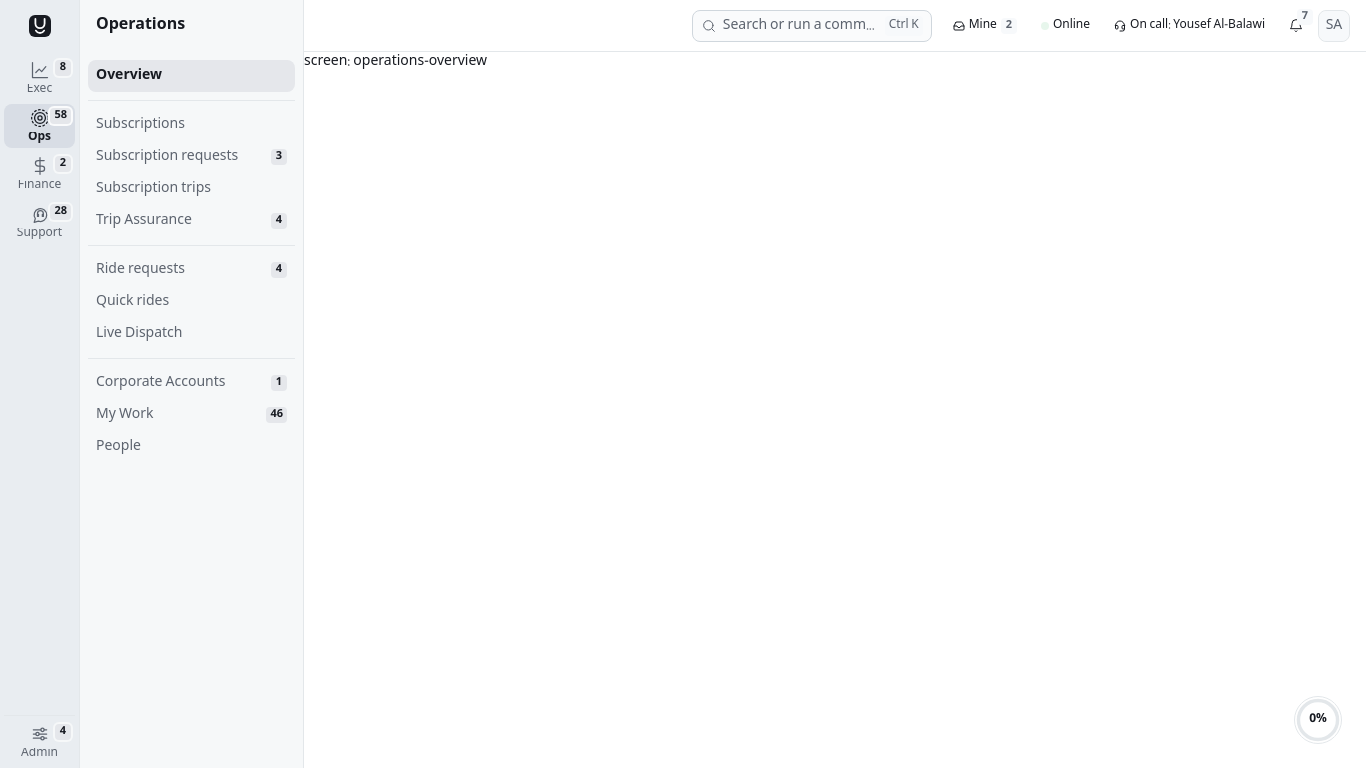
Test: the escape hatch goes to a screen that reads the operator's query › navigates to an index route with `q` on it, not to a metric board that drops it
Click the button "Search or run a command Ctrl K" at (812, 26), box [692,10,932,42]
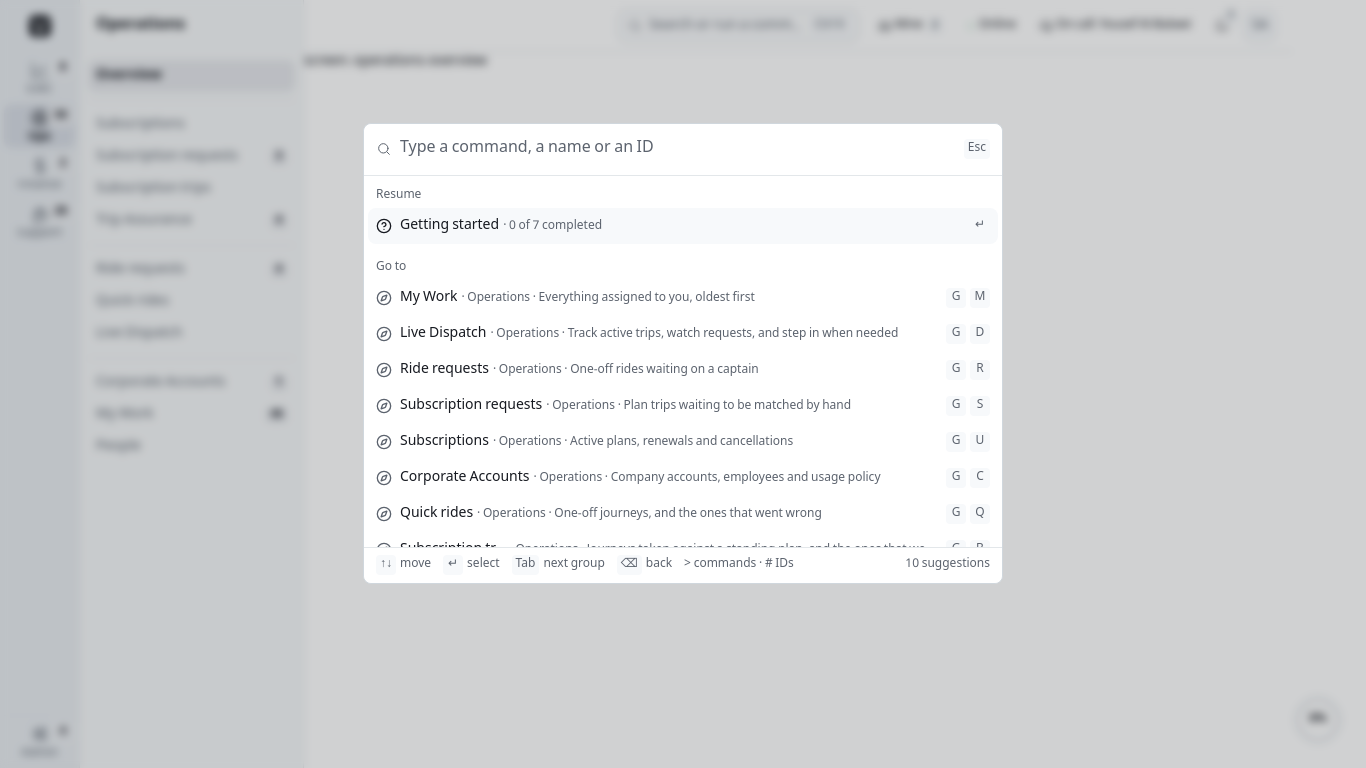
Type "Al-Harbi" into the search field named "Search" at (678, 149), box [400,137,956,161]
(page scrolled)
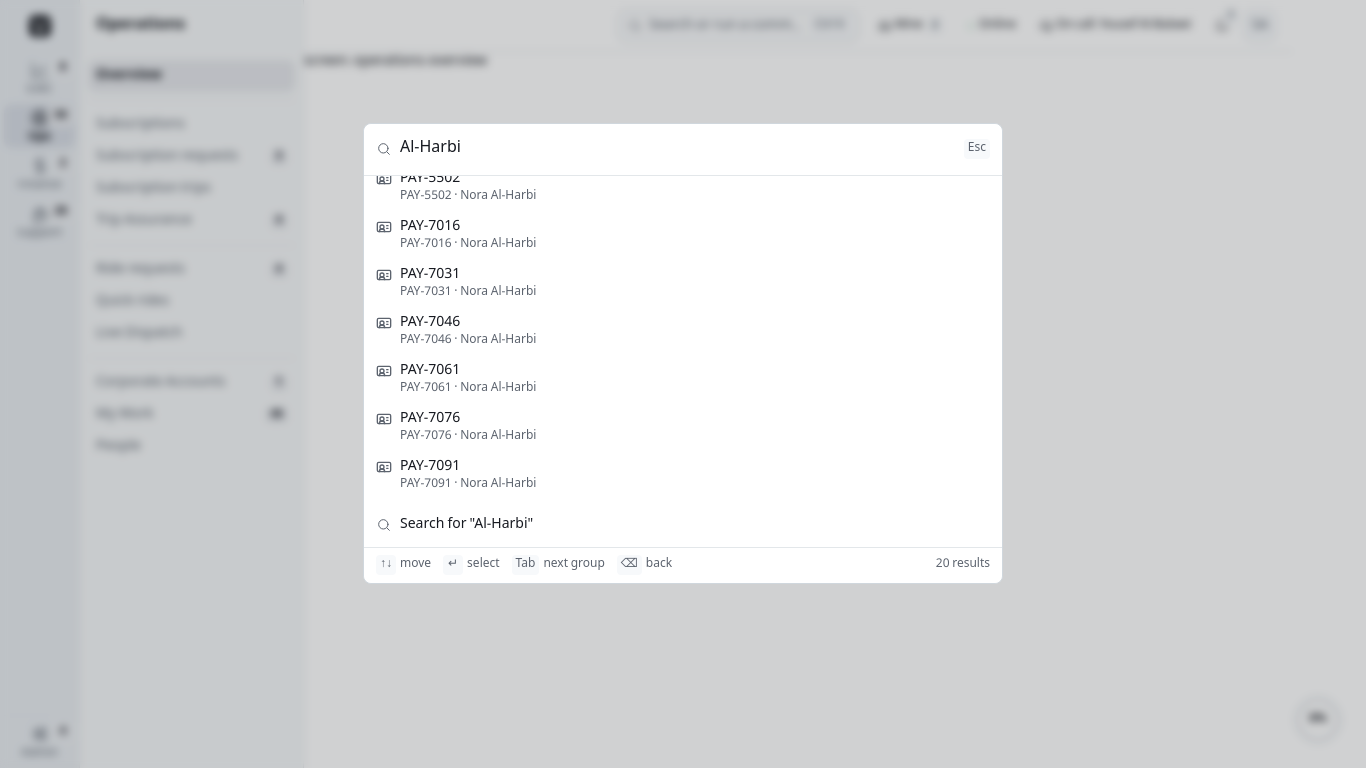
Click the option "Search for \"Al-Harbi\"" at (455, 525), box [376,513,533,537]
(page scrolled)
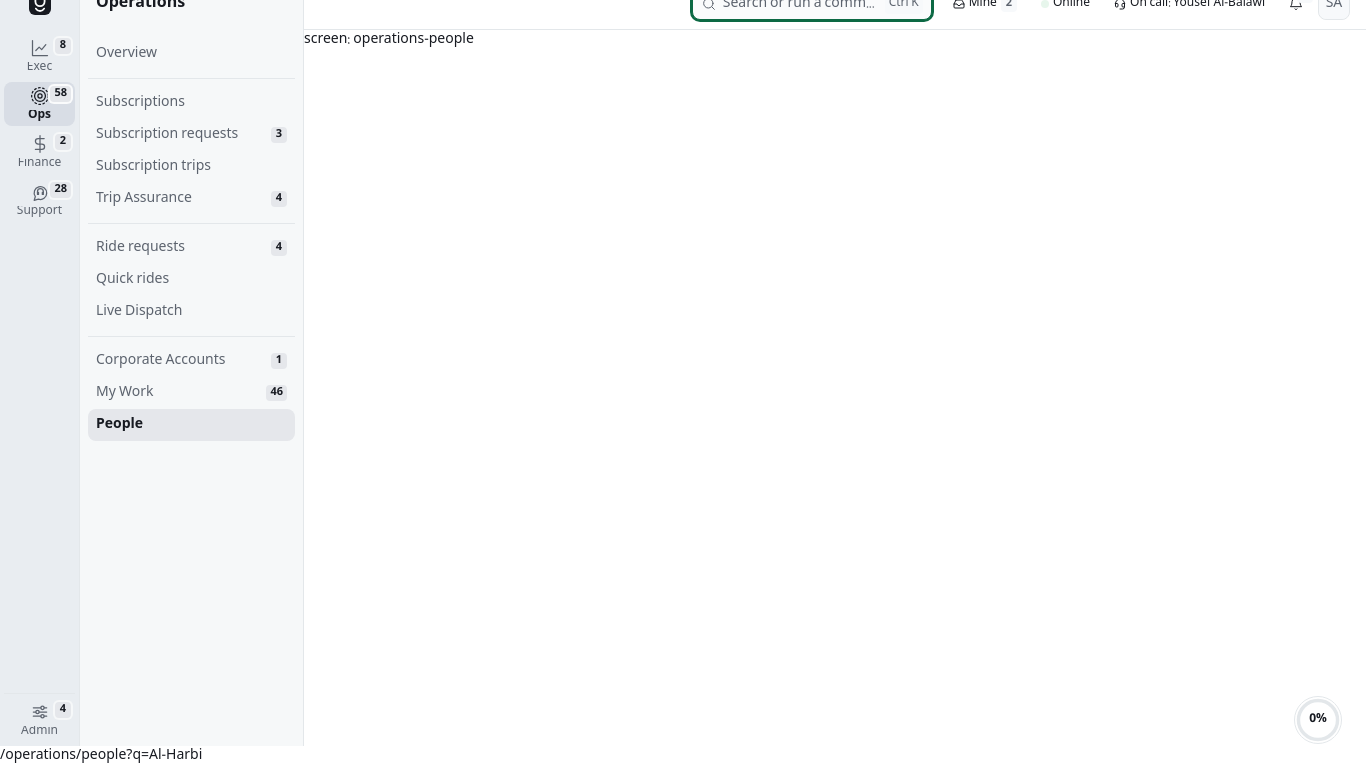
expect the text with test id "path" shows "q=Al-Harbi": met, box [0,744,202,767]
